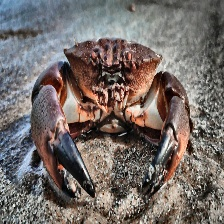crab: (18, 37, 192, 219)
